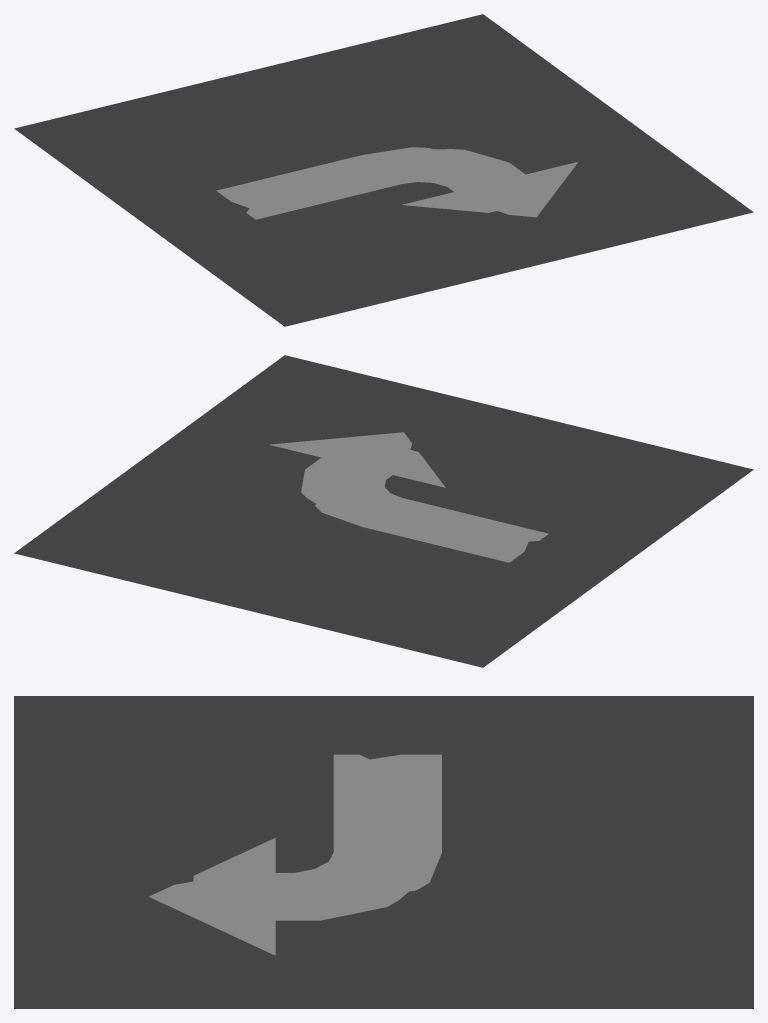
The model's file is SM_Envr_Road_Road_Arrow_T3_02.fbx.
3 renders of one model, top to bottom at view 1: azimuth 30°, elevation 25°; view 2: azimuth 150°, elevation 25°; view 3: azimuth 270°, elevation 25°, orthographic. The views are drawn at different scales.
Visible parts, largest first — view 1: SM_Envr_Road_Road_Arrow_T3_02; view 2: SM_Envr_Road_Road_Arrow_T3_02; view 3: SM_Envr_Road_Road_Arrow_T3_02.
Part boxes in pixels (bbox=[...]): SM_Envr_Road_Road_Arrow_T3_02: bbox=[14, 14, 753, 326]; SM_Envr_Road_Road_Arrow_T3_02: bbox=[14, 355, 753, 667]; SM_Envr_Road_Road_Arrow_T3_02: bbox=[14, 696, 753, 1008].
Bounding box in the file's own units: 500 × 0 × 500.
